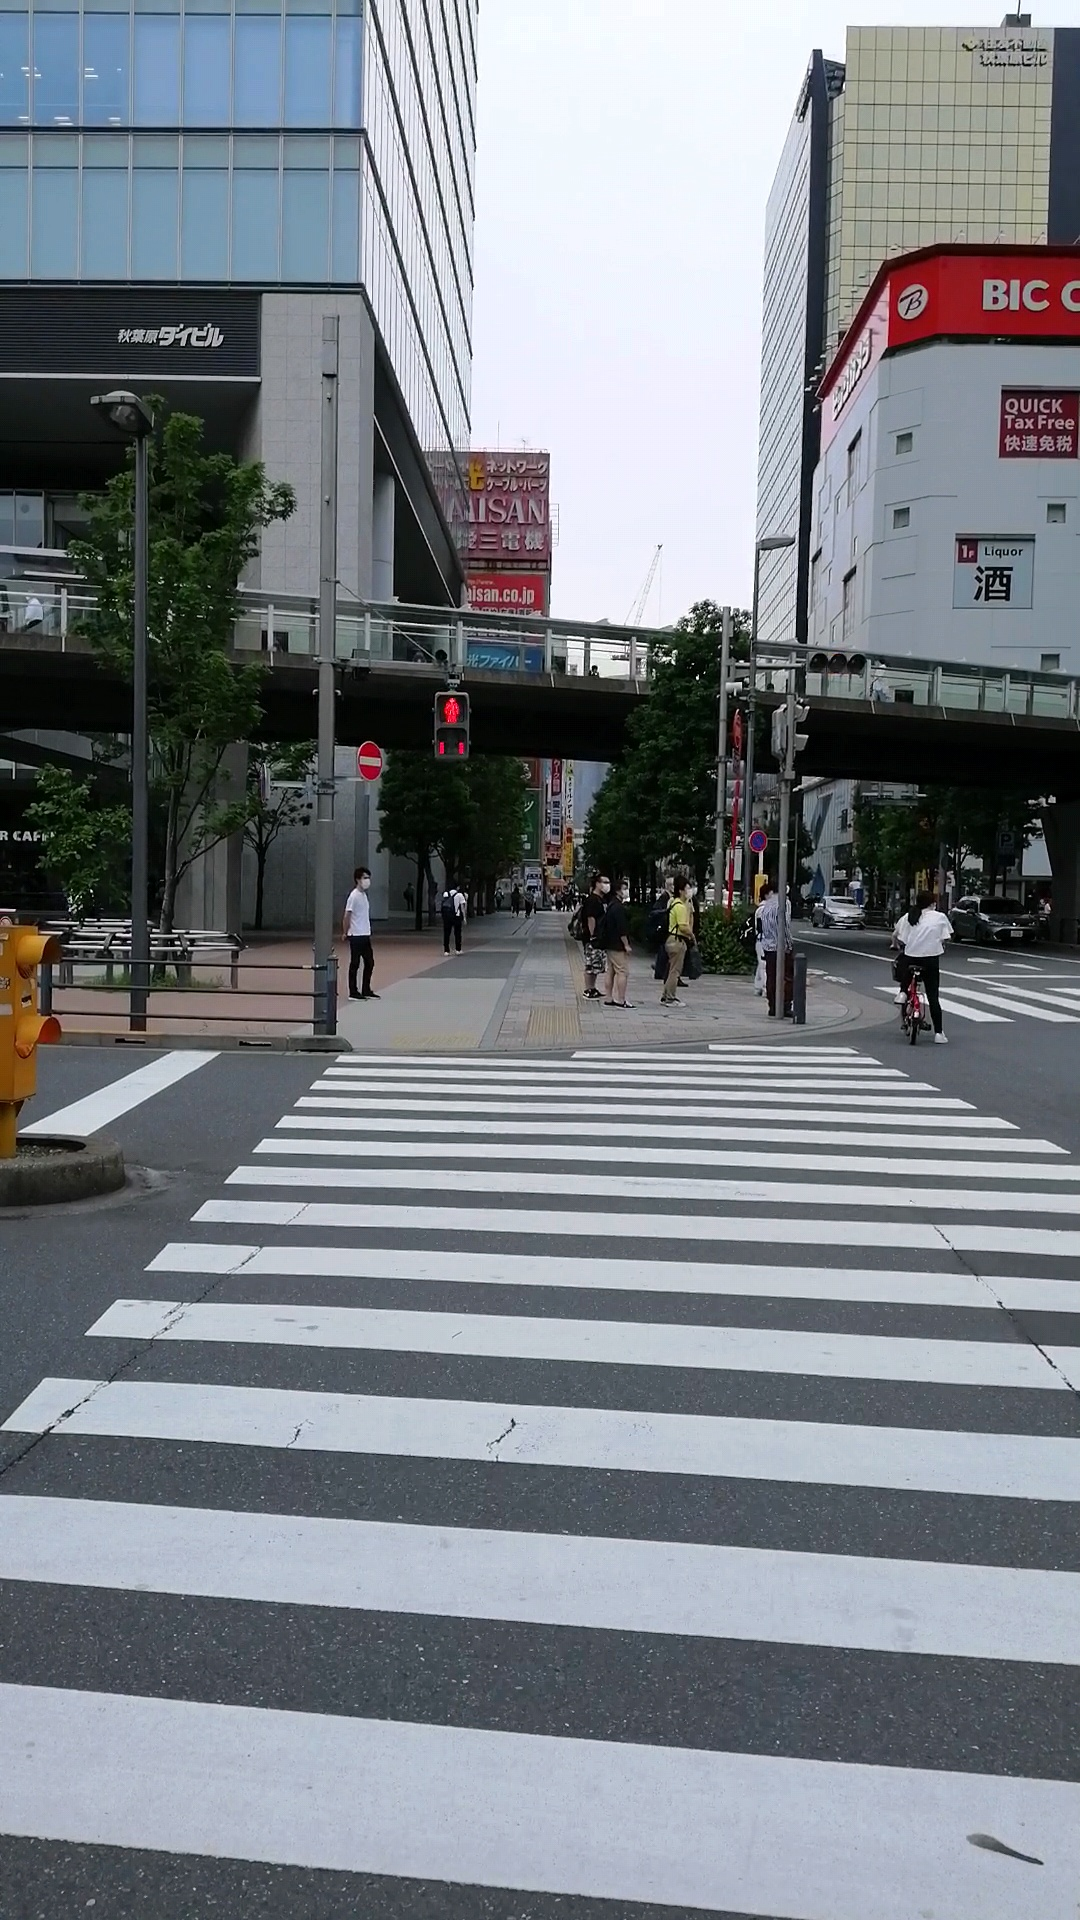red: (433, 691, 469, 760)
